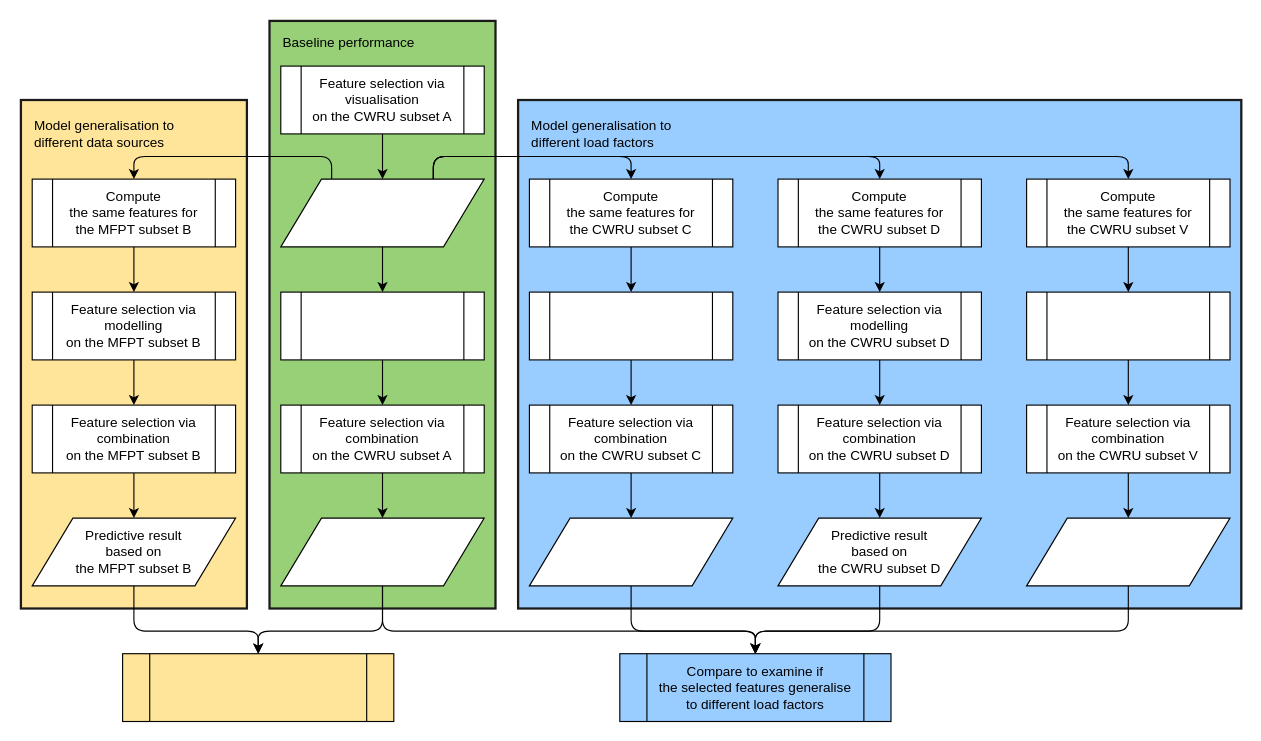
The diagram is 1261 pixels wide and 741 high, and some of its shapes have lost their labels. Each missing label, with the box of its shape:
Compare to examine if the selected features generalise to different data sources: (121, 653, 394, 722)
Feature selection via modelling on the CWRU subset A: (280, 291, 484, 360)
Feature selection via modelling on the CWRU subset C: (528, 291, 733, 360)
Feature selection via modelling on the CWRU subset V: (1025, 291, 1230, 360)
Predictive result based on the CWRU subset A: (280, 517, 484, 586)
Predictive result based on the CWRU subset C: (528, 517, 733, 586)
Predictive result based on the CWRU subset V: (1025, 517, 1230, 586)
Visually discriminative features selected from the CWRU subset A: (280, 178, 484, 247)
